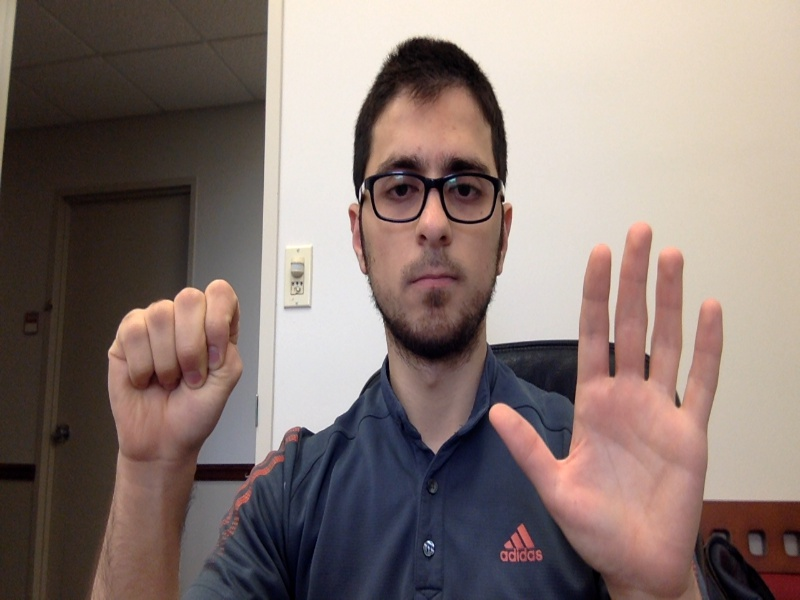0-hand: (108, 279, 241, 458)
5-hand: (490, 224, 723, 584)
